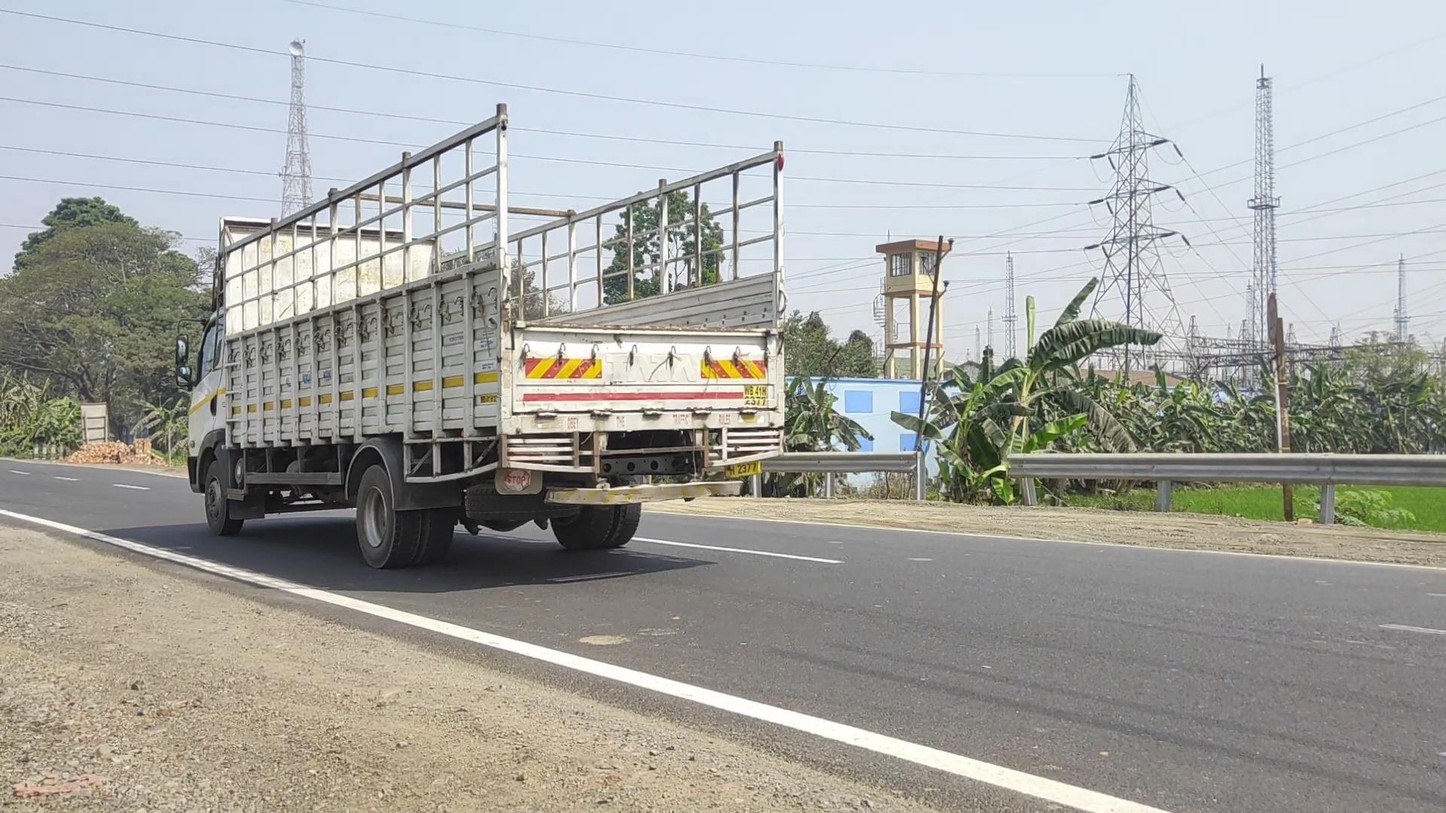van: (178, 104, 785, 571)
